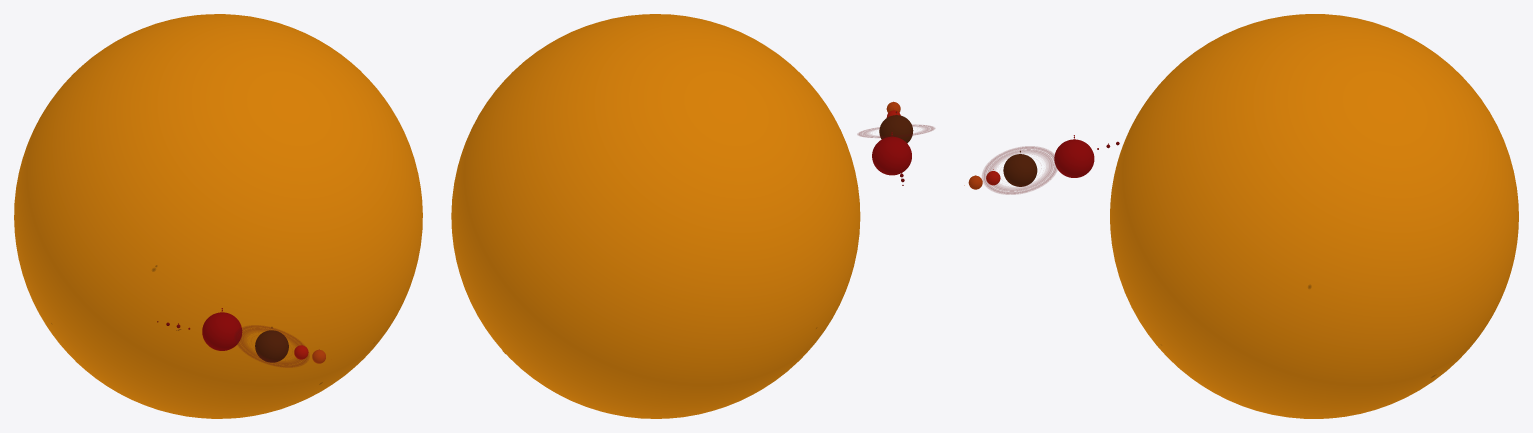
The model's file is solar_system.glb.
3 views of the same model, side by side, from view 1: azimuth 30°, elevation 25°; view 2: azimuth 150°, elevation 25°; view 3: azimuth 270°, elevation 25° (orthographic).
Visible parts, largest first — view 1: Sun, Saturn, Jupiter; view 2: Sun, Jupiter, Saturn; view 3: Sun, Saturn, Jupiter.
Part boxes in pixels (bbox=[...]): Sun: bbox=[14, 14, 422, 418]; Saturn: bbox=[234, 325, 309, 367]; Jupiter: bbox=[202, 308, 242, 350]; Sun: bbox=[451, 14, 860, 418]; Jupiter: bbox=[872, 132, 911, 175]; Saturn: bbox=[857, 111, 934, 143]; Sun: bbox=[1110, 14, 1518, 418]; Saturn: bbox=[982, 146, 1058, 194]; Jupiter: bbox=[1054, 135, 1094, 177].
Bounding box in the file's own units: 2.22 × 2.19 × 3.01.
5 materials, 1 textured.
